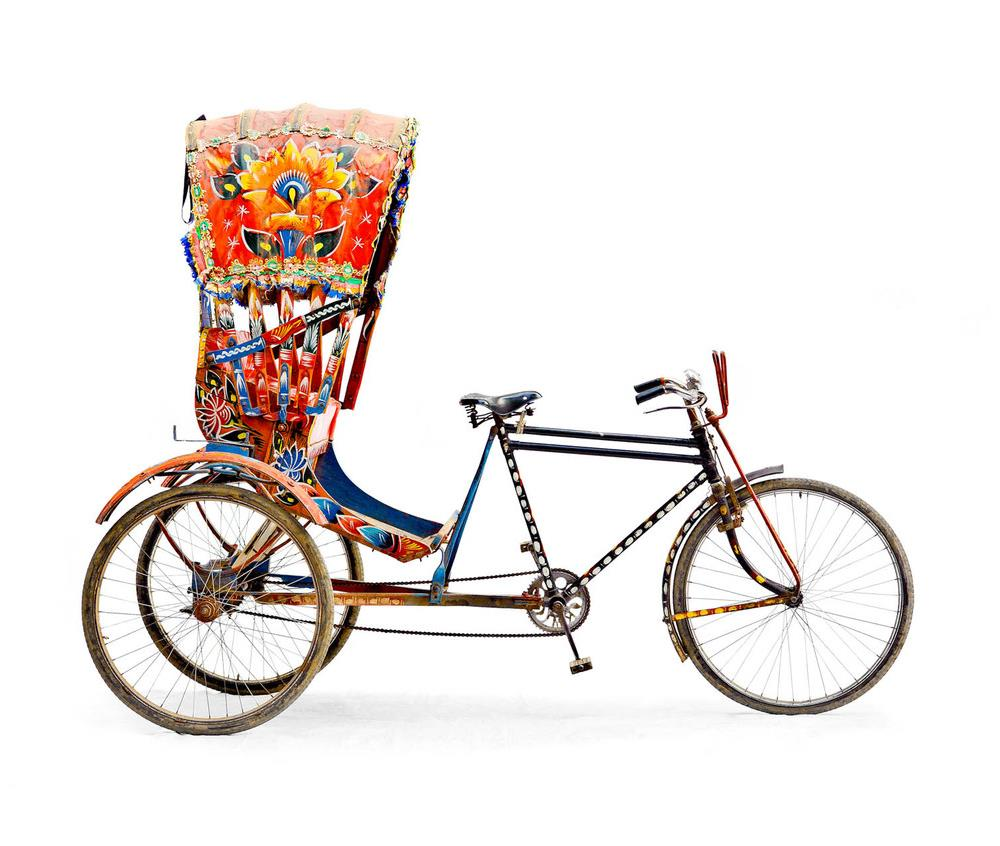Rickshaw: (65, 94, 915, 745)
